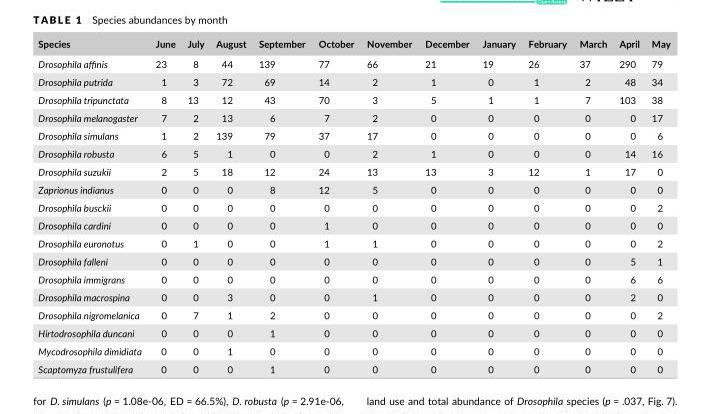table: (37, 37, 669, 374)
table column: (37, 37, 147, 374), (251, 37, 311, 374), (359, 37, 417, 374), (417, 37, 475, 374), (521, 37, 572, 374), (311, 37, 359, 374), (475, 37, 521, 374), (209, 37, 251, 374), (572, 37, 612, 374), (147, 37, 180, 374), (612, 37, 644, 374), (180, 37, 209, 374), (644, 37, 669, 374)
table column header: (37, 37, 669, 53)
table row: (37, 53, 669, 72), (37, 72, 669, 90), (37, 90, 669, 108), (37, 108, 669, 126), (37, 126, 669, 144), (37, 144, 669, 162), (37, 162, 669, 180), (37, 197, 669, 215), (37, 215, 669, 233), (37, 233, 669, 251), (37, 251, 669, 269), (37, 269, 669, 287), (37, 287, 669, 305), (37, 305, 669, 323), (37, 323, 669, 341), (37, 341, 669, 359), (37, 180, 669, 197), (37, 37, 669, 53), (37, 359, 669, 374)
